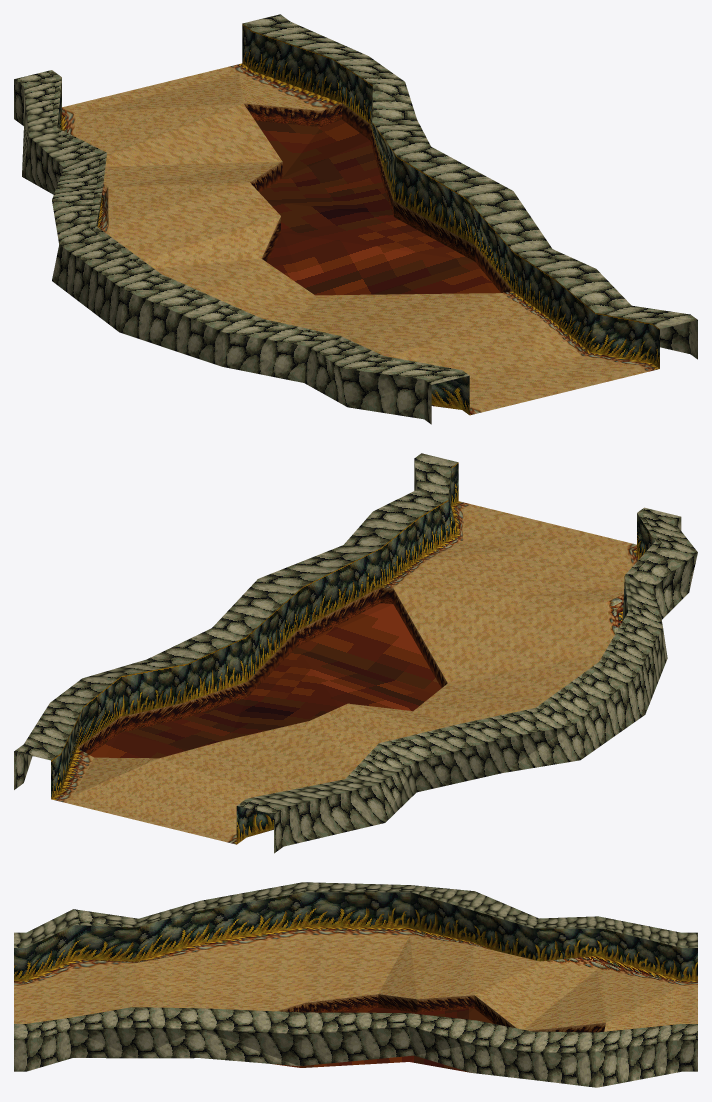
The model's file is tv_ground_t2_b0_e0.dae.
3 renders of one model, top to bottom at view 1: azimuth 30°, elevation 25°; view 2: azimuth 150°, elevation 25°; view 3: azimuth 270°, elevation 25°, orthographic. The views are drawn at different scales.
Visible parts, largest first — view 1: Plane.000; view 2: Plane.000; view 3: Plane.000.
Boxes of the visible parts, x1,y1,x2,y2 form: Plane.000: [14, 14, 697, 424]; Plane.000: [14, 453, 697, 853]; Plane.000: [14, 882, 697, 1087].
Size of what is drawn, in the model's own units: 11.63 by 19.01 by 1.95.
Materials: 5 (5 with a texture image).
